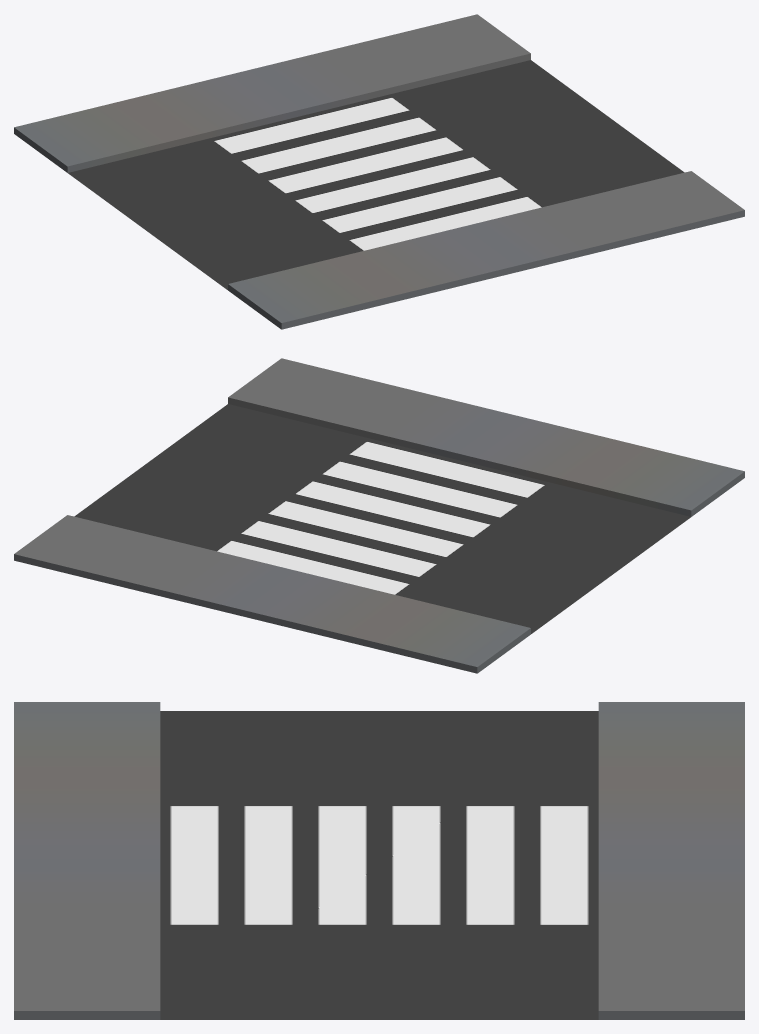
The model's file is Crosswalk.fbx.
3 renders of one model, top to bottom at view 1: azimuth 30°, elevation 25°; view 2: azimuth 150°, elevation 25°; view 3: azimuth 270°, elevation 25°, orthographic. The views are drawn at different scales.
Parts seen in each view (by area): view 1: Crosswalk; view 2: Crosswalk; view 3: Crosswalk.
Part boxes in pixels (x1,y1,x2,y2): Crosswalk: (14, 14, 744, 329); Crosswalk: (14, 358, 744, 673); Crosswalk: (14, 702, 744, 1019).
Bounding box in the file's own units: 1000 × 13.49 × 1000.
